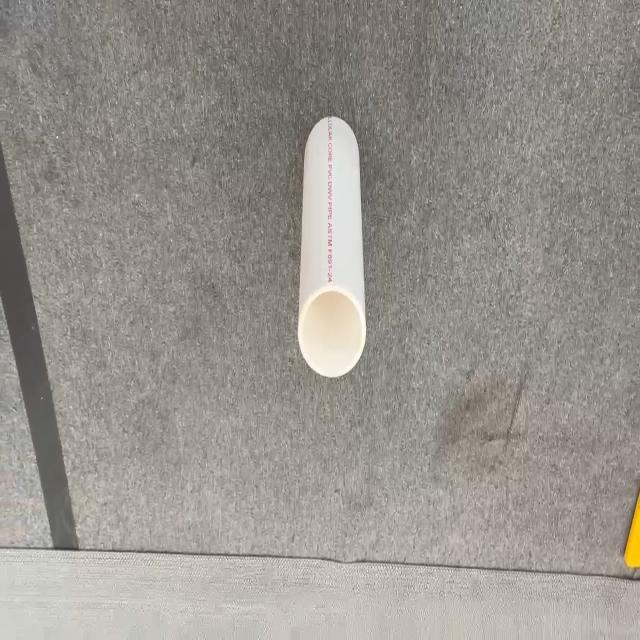coral: (296, 114, 366, 378)
